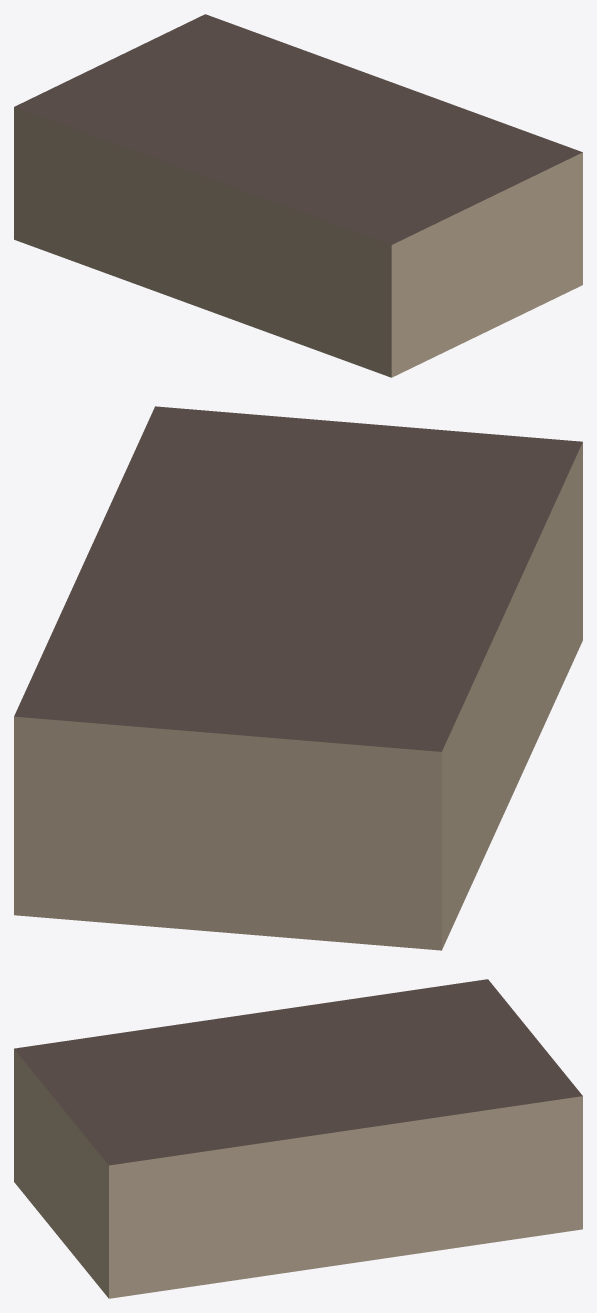
The picture shows the model from 3 angles, top to bottom: view 1: azimuth 30°, elevation 25°; view 2: azimuth 150°, elevation 25°; view 3: azimuth 270°, elevation 25°; orthographic projection. The views are drawn at different scales.
Visible parts, largest first — view 1: HP-w859078942; view 2: HP-w859078942; view 3: HP-w859078942.
Boxes of the visible parts, x1,y1,x2,y2 form: HP-w859078942: (14, 14, 582, 377); HP-w859078942: (14, 406, 582, 950); HP-w859078942: (14, 979, 582, 1298).
Size of the model in its own units: 26.98 by 9 by 34.81.
